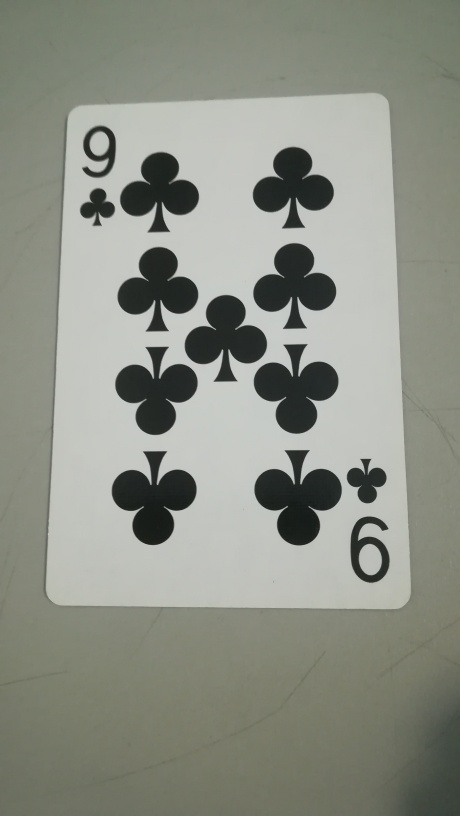mh 9: (43, 91, 415, 615)
